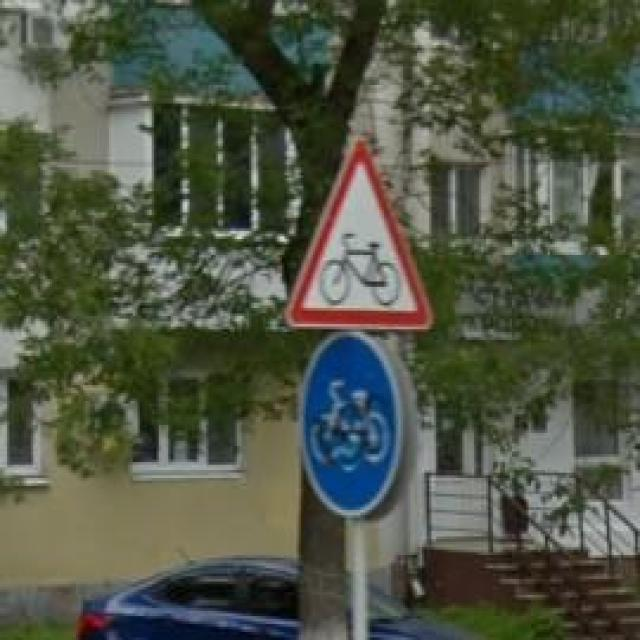traffic_sign: (282, 138, 434, 335), (296, 332, 403, 520)
